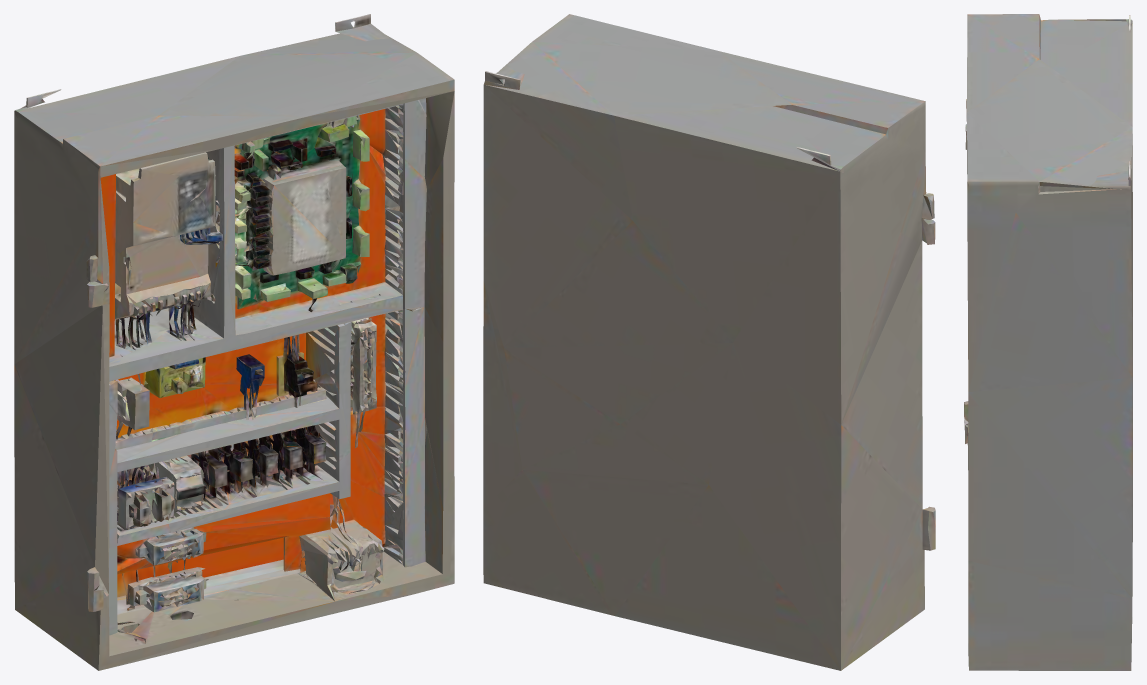
The model's file is tablero-electronico.glb.
3 renders of one model, left to right at view 1: azimuth 30°, elevation 25°; view 2: azimuth 150°, elevation 25°; view 3: azimuth 270°, elevation 25°, orthographic. The views are drawn at different scales.
Parts seen in each view (by area): view 1: Mesh_0; view 2: Mesh_0; view 3: Mesh_0.
Part boxes in pixels (x1,y1,x2,y2): Mesh_0: (14, 14, 454, 670); Mesh_0: (483, 14, 935, 670); Mesh_0: (964, 14, 1132, 670).
Size of the model in its own units: 1.44 by 1.91 by 0.5929.
1 material, 1 textured.
